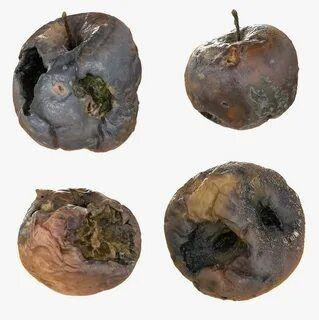Apple: (162, 164, 304, 300), (13, 12, 141, 151), (17, 190, 140, 295), (186, 26, 298, 130)
